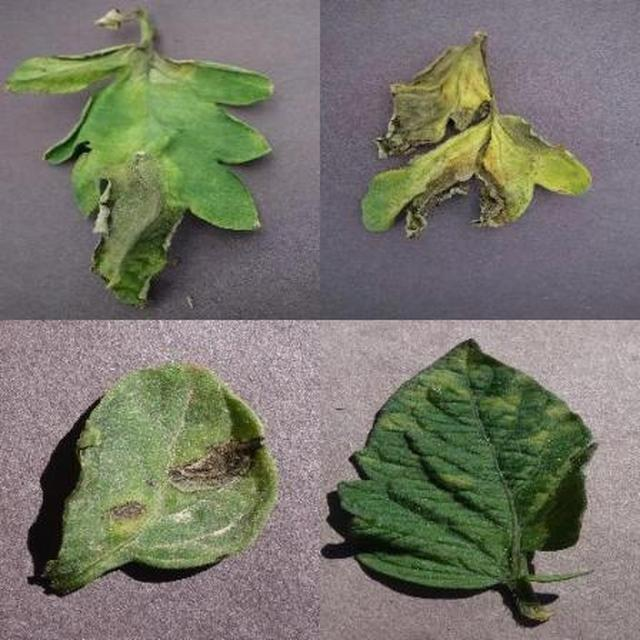Late Blight Leaf: (198, 199, 640, 640)
